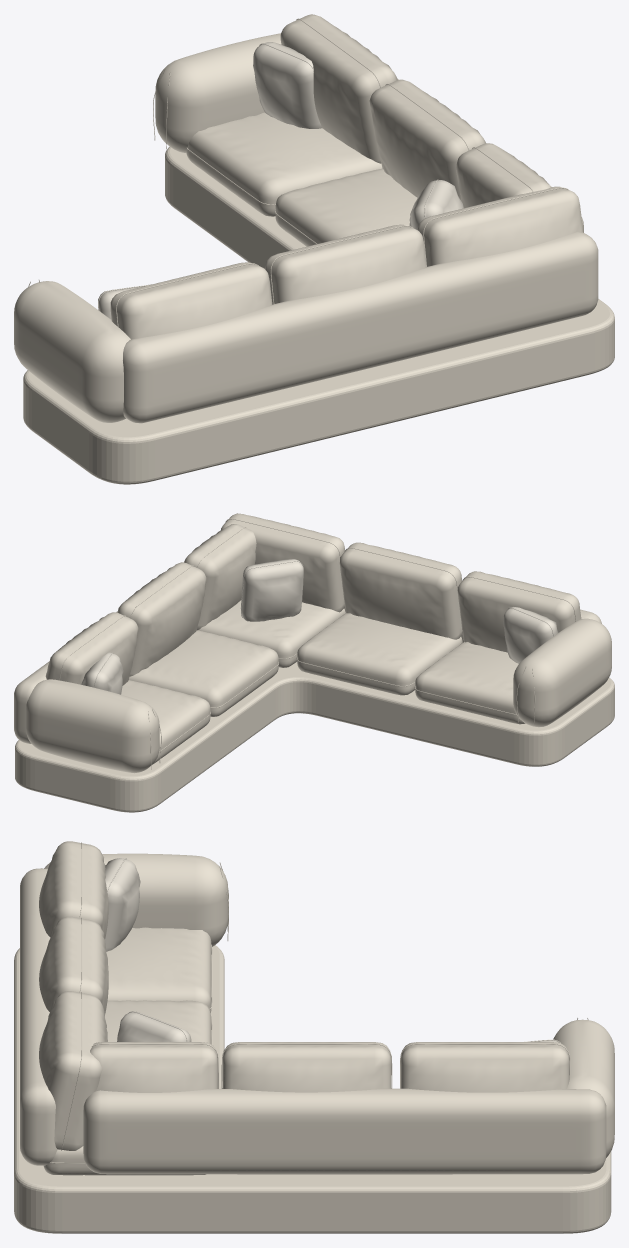
File: atelier-ivory-corner.glb
3 renders of one model, top to bottom at view 1: azimuth 30°, elevation 25°; view 2: azimuth 150°, elevation 25°; view 3: azimuth 270°, elevation 25°, orthographic. The views are drawn at different scales.
Visible parts, largest first — view 1: continuous_L_upholstered_frame, left_scatter_pillow_cloth; view 2: continuous_L_upholstered_frame, left_scatter_pillow_cloth; view 3: continuous_L_upholstered_frame, left_scatter_pillow_cloth.
Part boxes in pixels (bbox=[...]): continuous_L_upholstered_frame: bbox=[14, 14, 614, 484]; left_scatter_pillow_cloth: bbox=[98, 42, 463, 319]; continuous_L_upholstered_frame: bbox=[14, 513, 614, 812]; left_scatter_pillow_cloth: bbox=[81, 559, 558, 694]; continuous_L_upholstered_frame: bbox=[14, 841, 614, 1233]; left_scatter_pillow_cloth: bbox=[105, 858, 560, 1042].
Bounding box in the file's own units: 3.17 × 0.9558 × 3.17.
